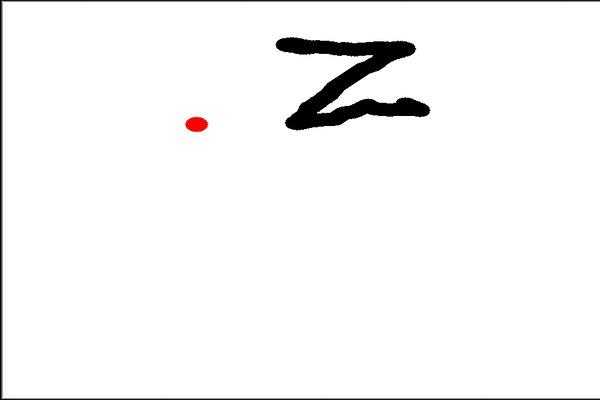Z: (266, 28, 444, 134)
